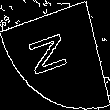N_E: (31, 29, 79, 81)
